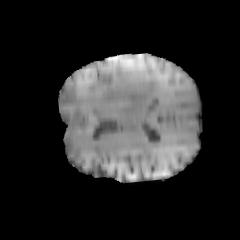glioma: (98, 63, 163, 113)
